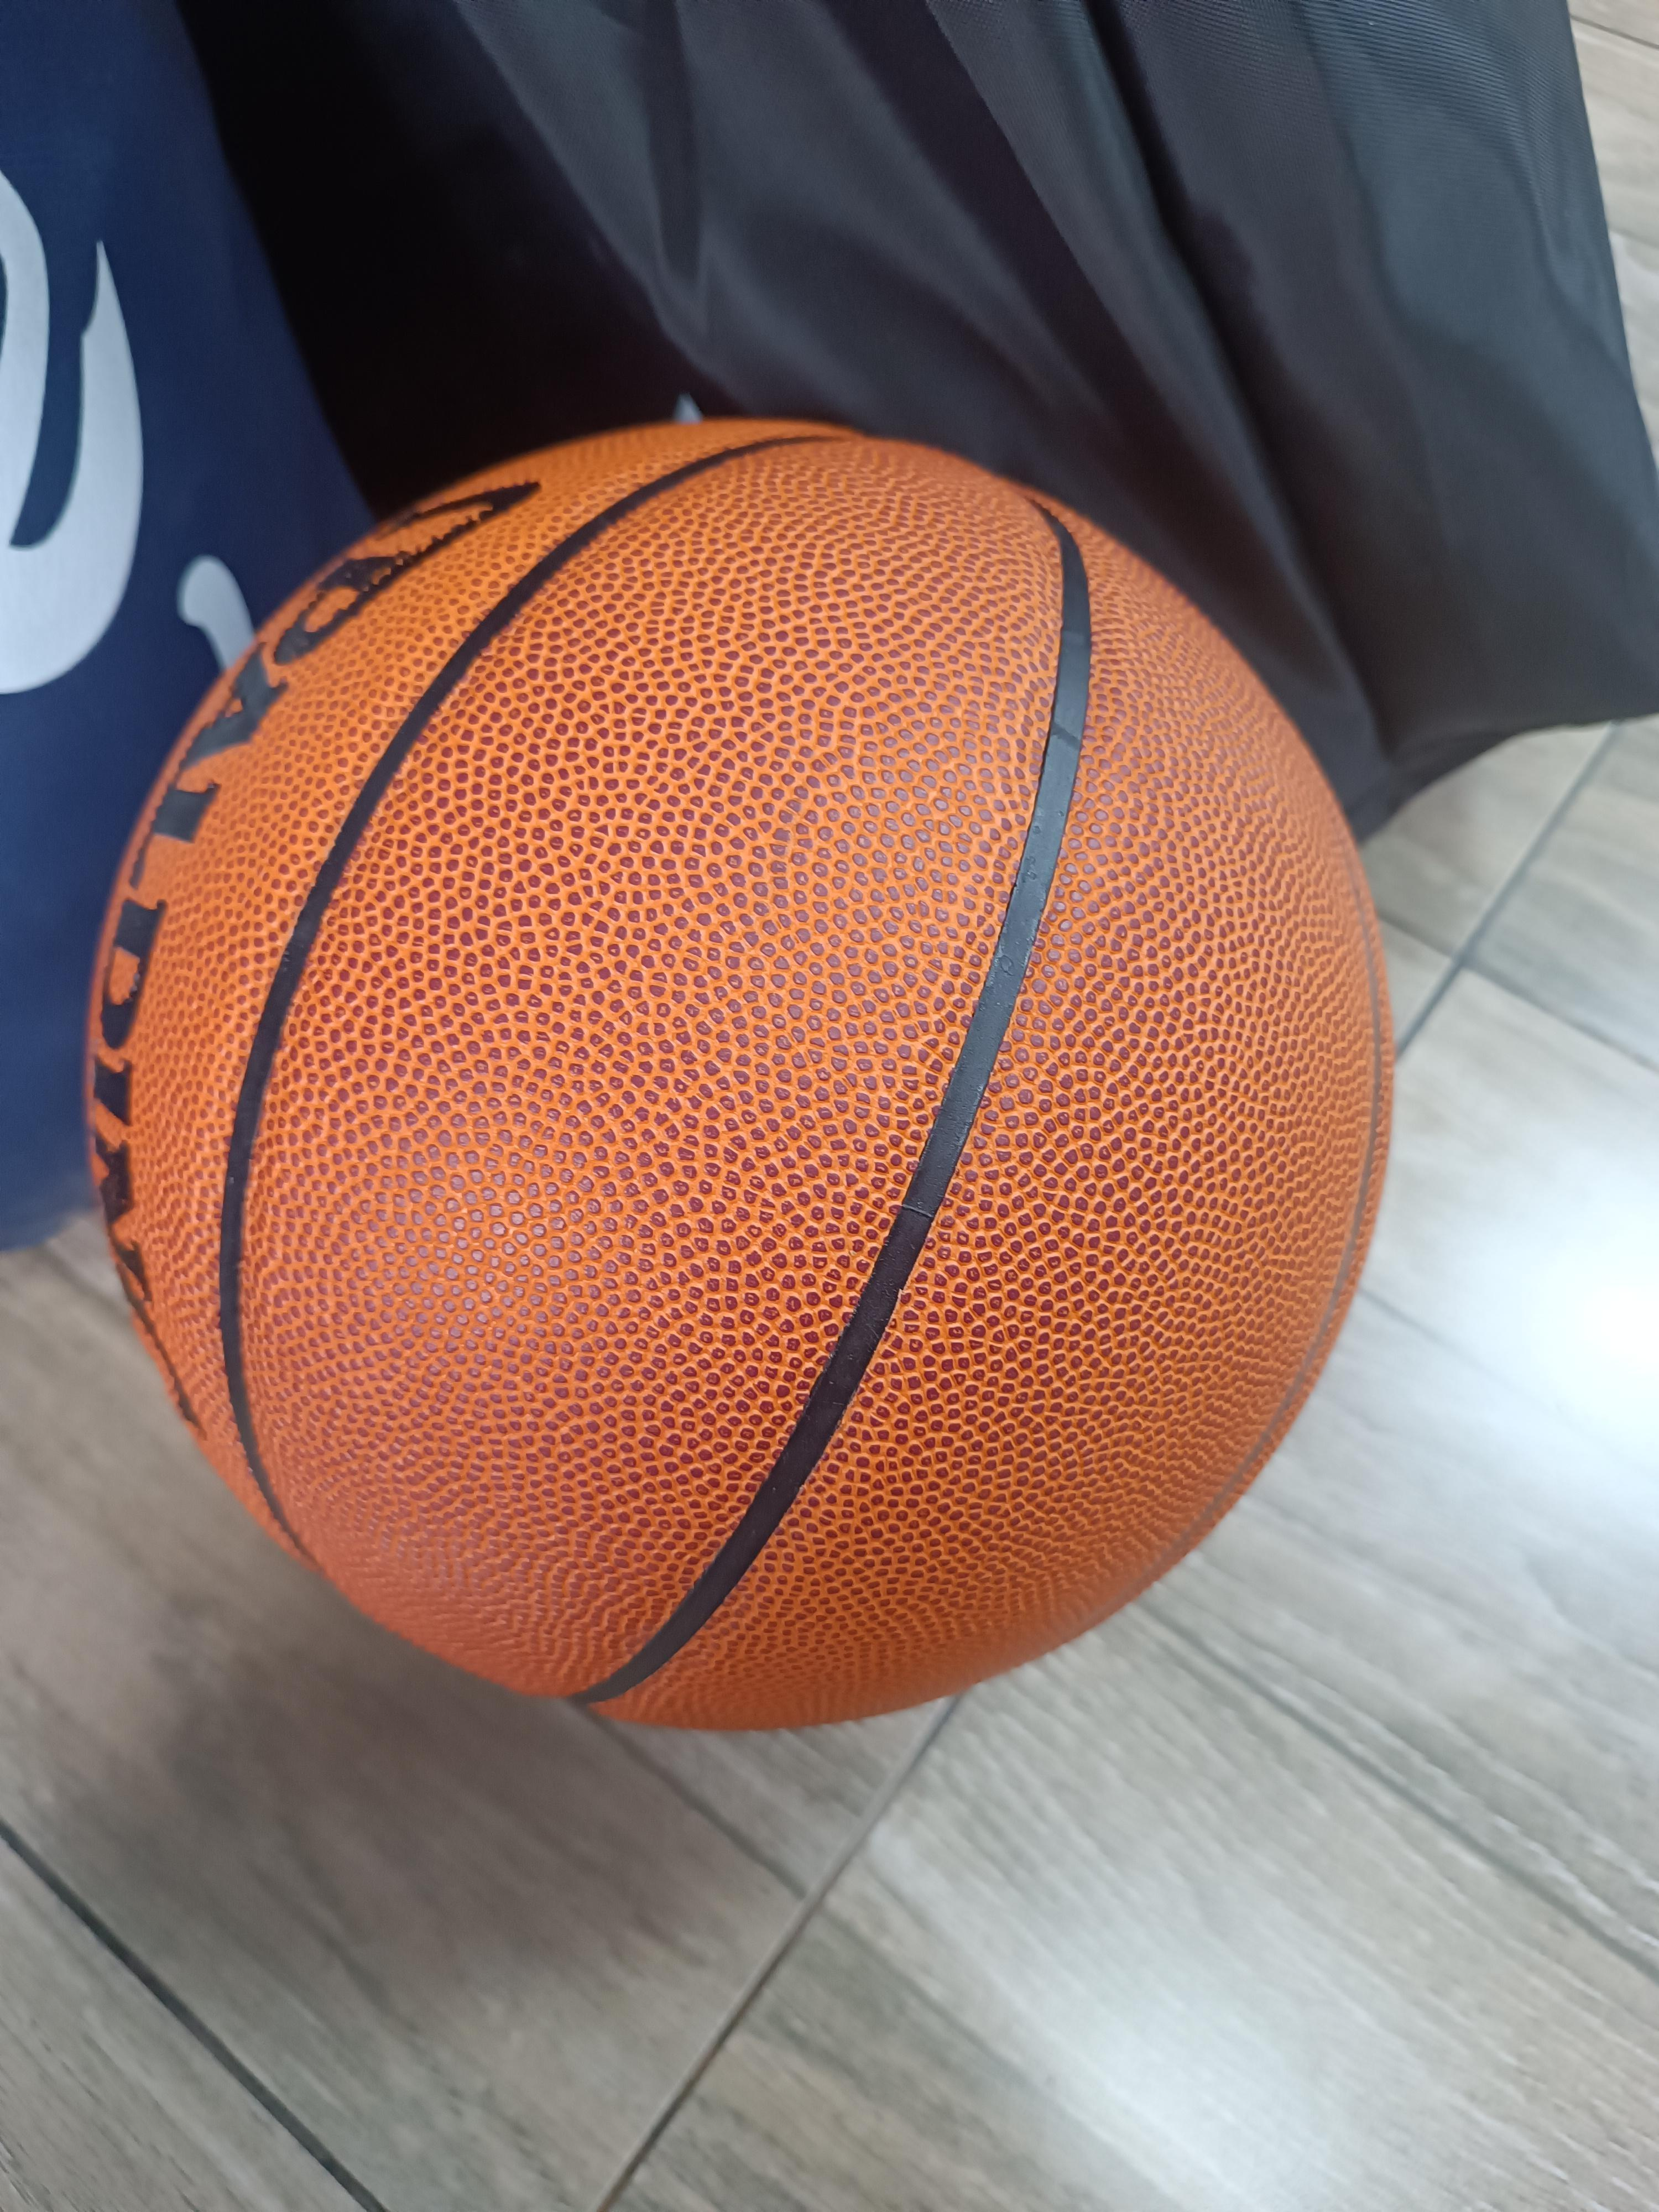Sports-Ball: (87, 420, 1391, 1728)
